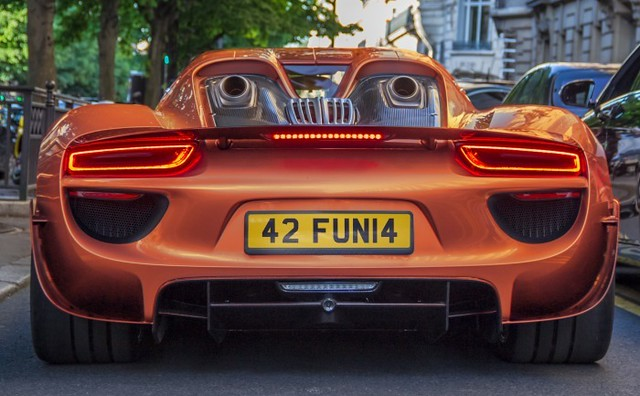number_plate: (238, 202, 425, 261)
